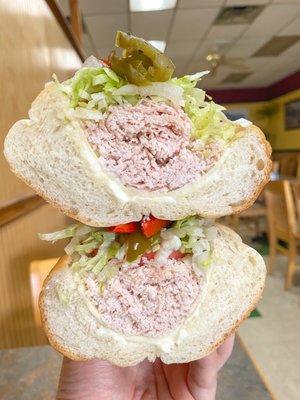soup: (4, 37, 272, 393)
